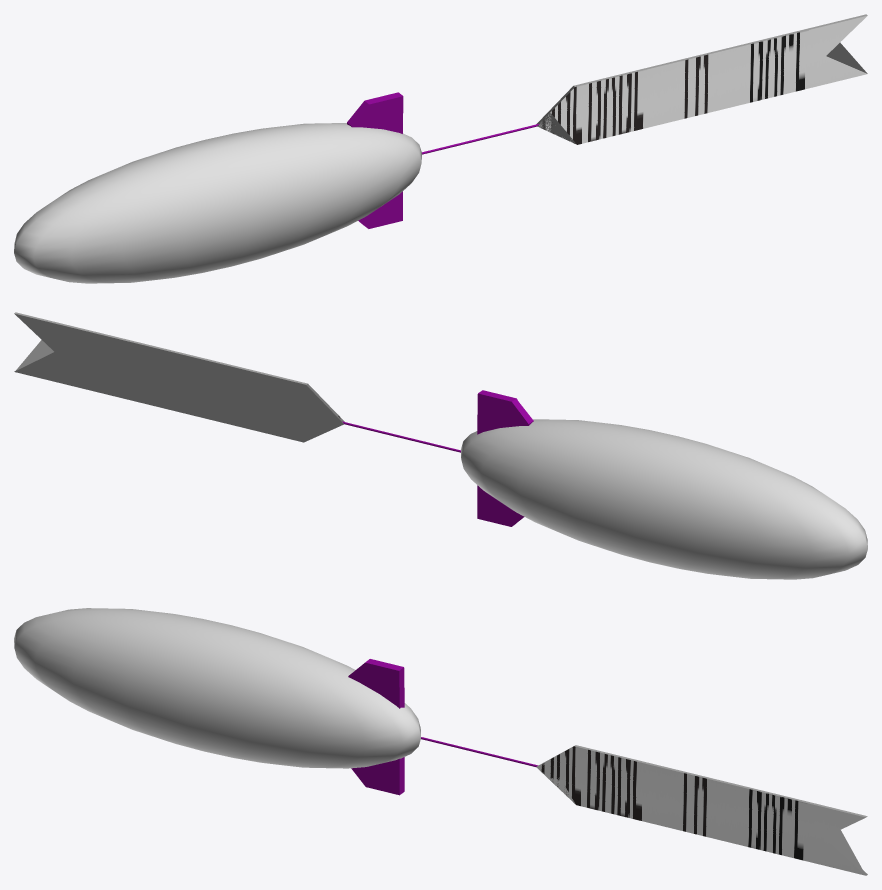
Rendered from Blimp Prepare to  Race.fbx.
3 views of the same model, one above another, from view 1: azimuth 30°, elevation 25°; view 2: azimuth 150°, elevation 25°; view 3: azimuth 330°, elevation 25° (orthographic).
Visible parts, largest first — view 1: Blimp_Body, Banner_Prepare_To_Race, Top_Wing, Bottom_Wing; view 2: Blimp_Body, Banner_Prepare_To_Race, Top_Wing, Bottom_Wing; view 3: Blimp_Body, Banner_Prepare_To_Race, Top_Wing, Bottom_Wing.
Part boxes in pixels (x1=…): Blimp_Body: x1=14, y1=123, x2=421, y2=283; Banner_Prepare_To_Race: x1=536, y1=14, x2=867, y2=144; Top_Wing: x1=347, y1=92, x2=403, y2=133; Bottom_Wing: x1=358, y1=191, x2=402, y2=228; Blimp_Body: x1=461, y1=419, x2=867, y2=579; Banner_Prepare_To_Race: x1=14, y1=312, x2=344, y2=442; Top_Wing: x1=477, y1=390, x2=533, y2=434; Bottom_Wing: x1=477, y1=485, x2=524, y2=526; Blimp_Body: x1=14, y1=608, x2=421, y2=768; Banner_Prepare_To_Race: x1=536, y1=745, x2=867, y2=875; Top_Wing: x1=348, y1=659, x2=404, y2=708; Bottom_Wing: x1=351, y1=757, x2=404, y2=795.
Bounding box in the file's own units: 31.15 × 4.37 × 3.92.
